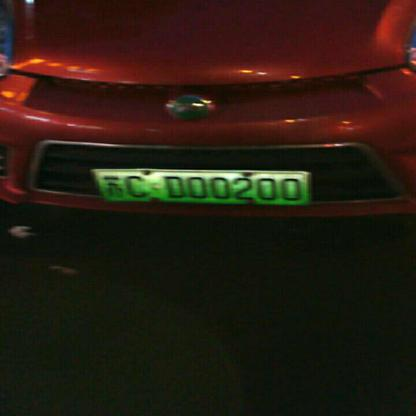lp: (89, 170, 310, 204)
